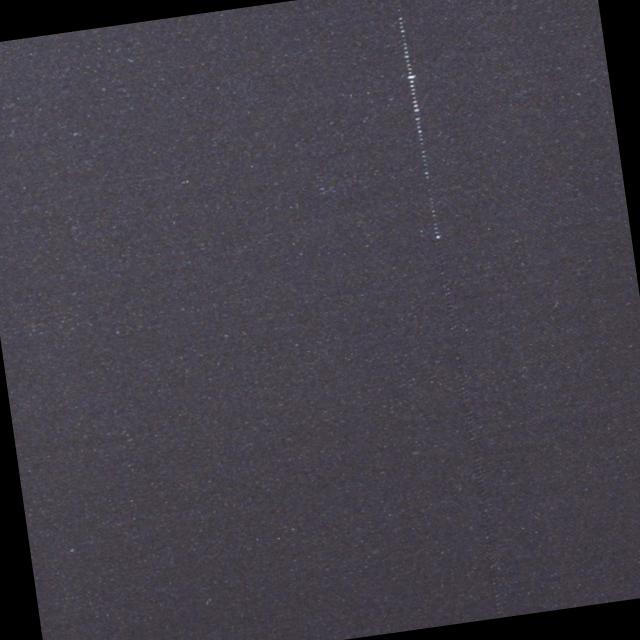Warp_Weft: (386, 0, 449, 253)
